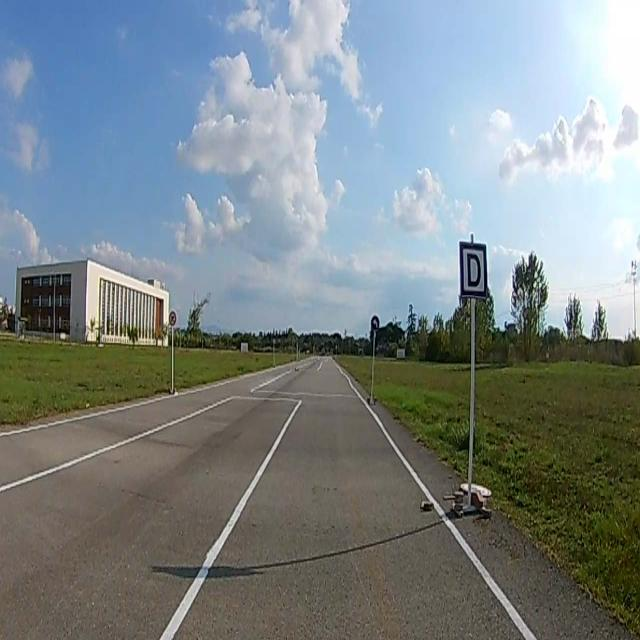durak: (458, 244, 486, 298)
